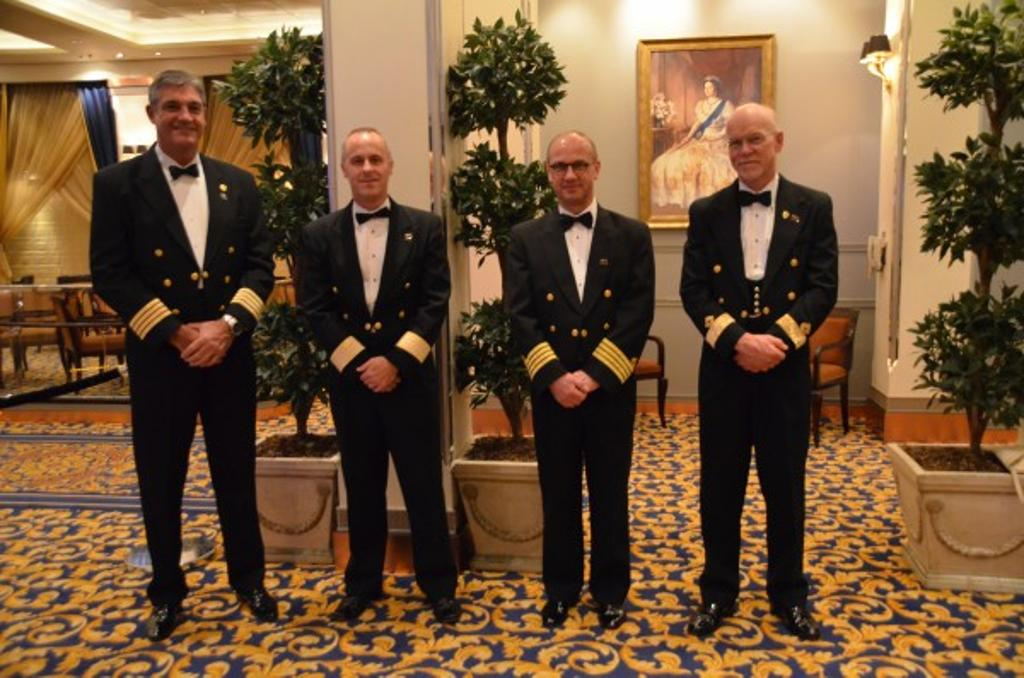face: (155, 88, 204, 146), (726, 119, 772, 180), (345, 135, 387, 196), (550, 142, 592, 201), (704, 82, 713, 96)
